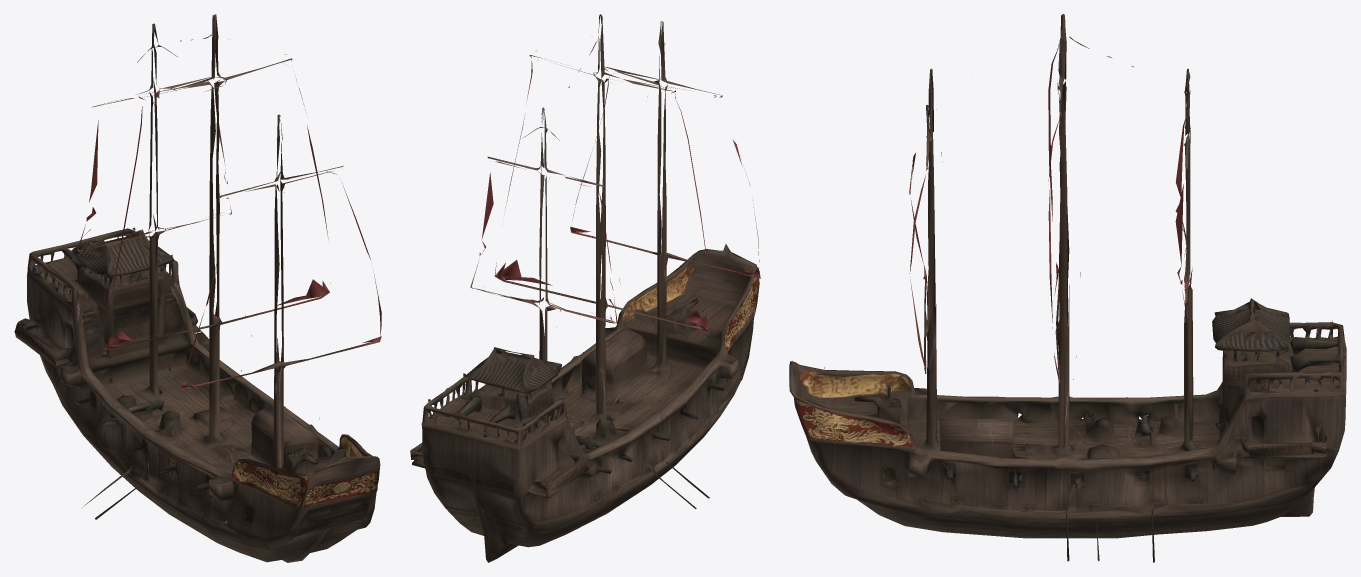
The model's file is dai-thuyen-ts.glb.
3 renders of one model, left to right at view 1: azimuth 30°, elevation 25°; view 2: azimuth 150°, elevation 25°; view 3: azimuth 270°, elevation 25°, orthographic. The views are drawn at different scales.
Visible parts, largest first — view 1: DaiThuyen_TS_WEB; view 2: DaiThuyen_TS_WEB; view 3: DaiThuyen_TS_WEB.
Boxes of the visible parts, x1,y1,x2,y2 form: DaiThuyen_TS_WEB: [14, 14, 381, 562]; DaiThuyen_TS_WEB: [410, 14, 760, 562]; DaiThuyen_TS_WEB: [789, 14, 1346, 562].
Size of the model in its own units: 8.91 by 18.17 by 17.98.
1 material, 1 textured.
